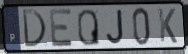0: (131, 6, 152, 47)
D: (21, 8, 48, 49)
E: (48, 8, 75, 49)
J: (105, 9, 125, 46)
K: (157, 8, 179, 45)
Q: (77, 8, 101, 47)
